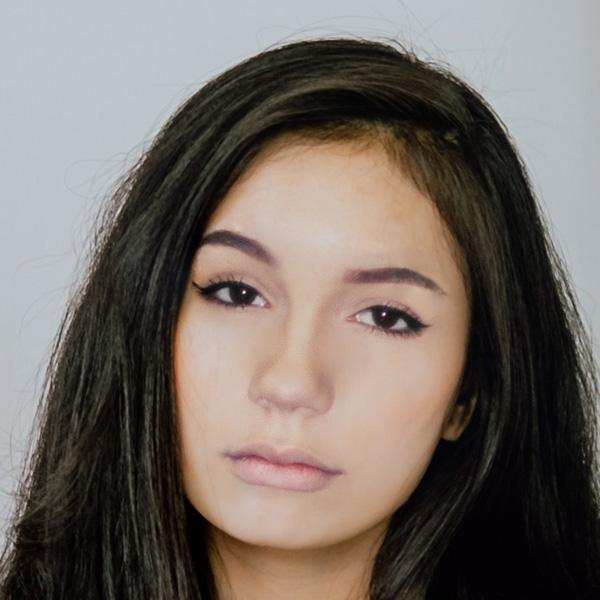Eyes: (338, 288, 435, 352), (188, 262, 276, 324)
